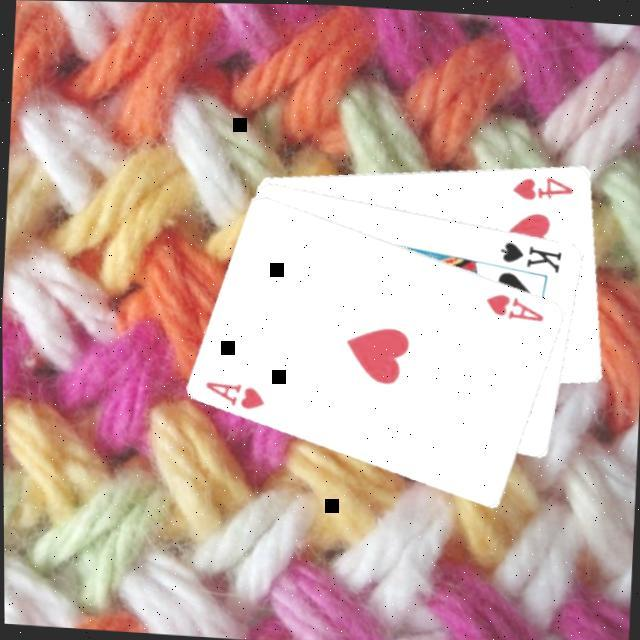4H: (511, 170, 579, 207)
AH: (202, 378, 271, 414), (484, 290, 550, 326)
KS: (498, 238, 568, 276)
